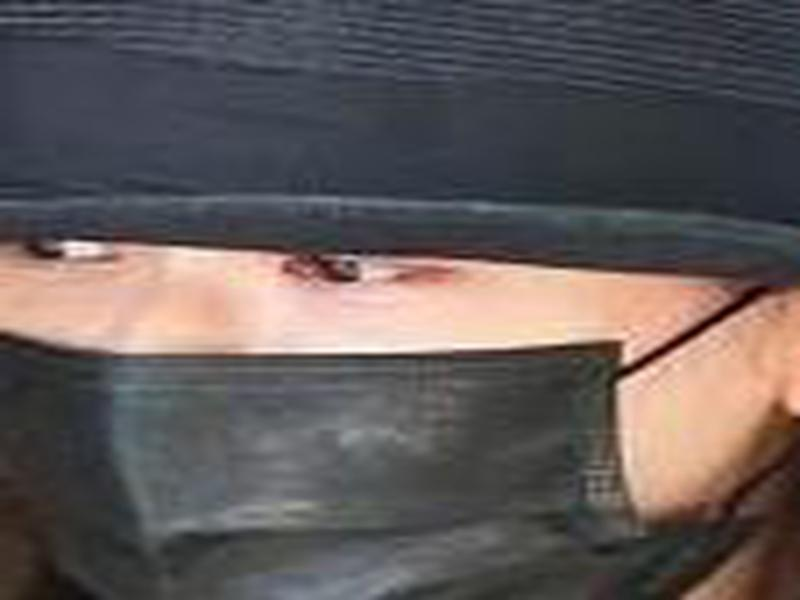with_mask: (3, 237, 794, 598)
